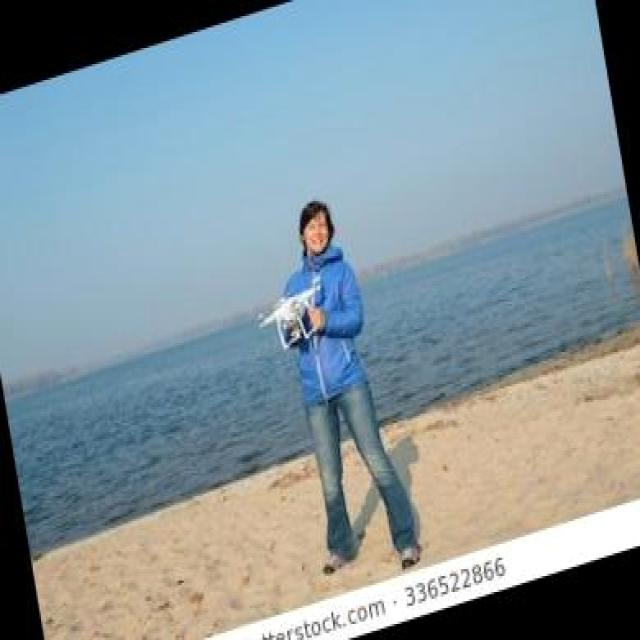drone: (258, 278, 325, 351)
